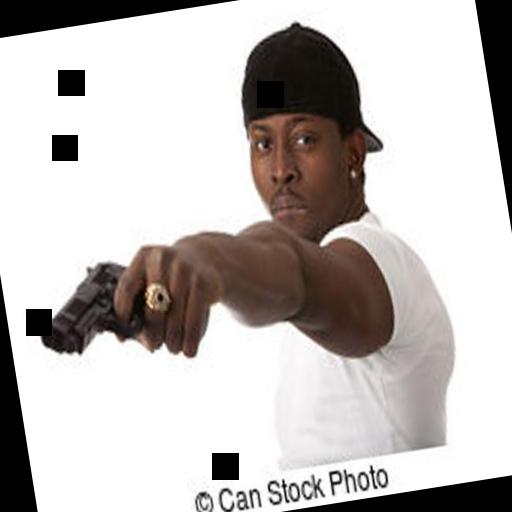Handgun: (29, 248, 196, 362)
